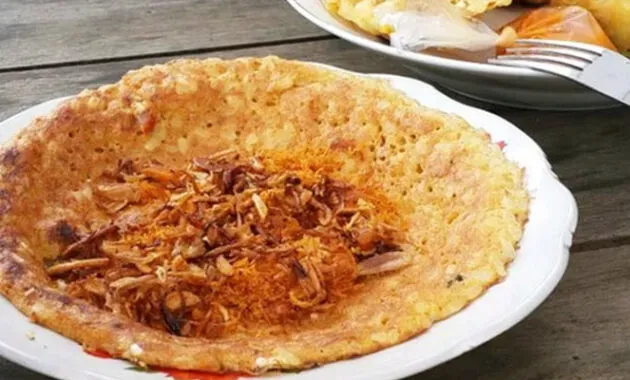kerak_telor: (1, 58, 530, 371)
